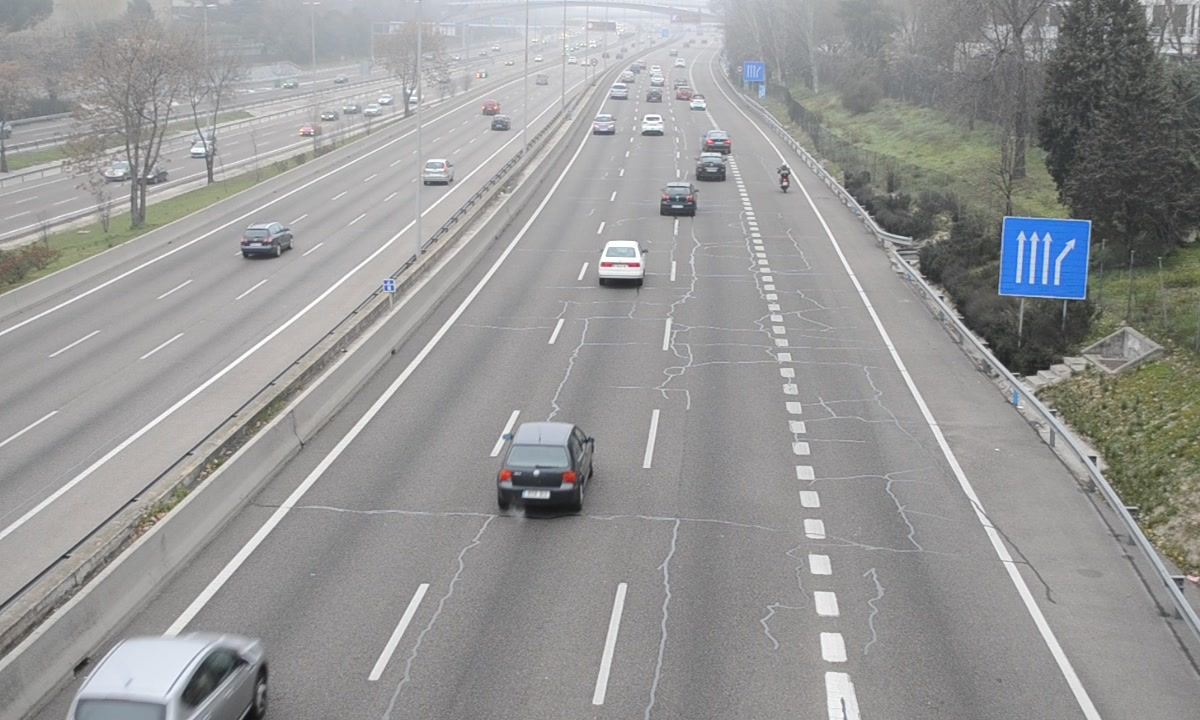car: (68, 629, 267, 718), (500, 422, 595, 505), (598, 240, 648, 281), (661, 182, 695, 218), (695, 152, 727, 183), (703, 129, 733, 153), (639, 113, 666, 137), (592, 112, 617, 134)
motorcycle: (776, 163, 793, 196)
